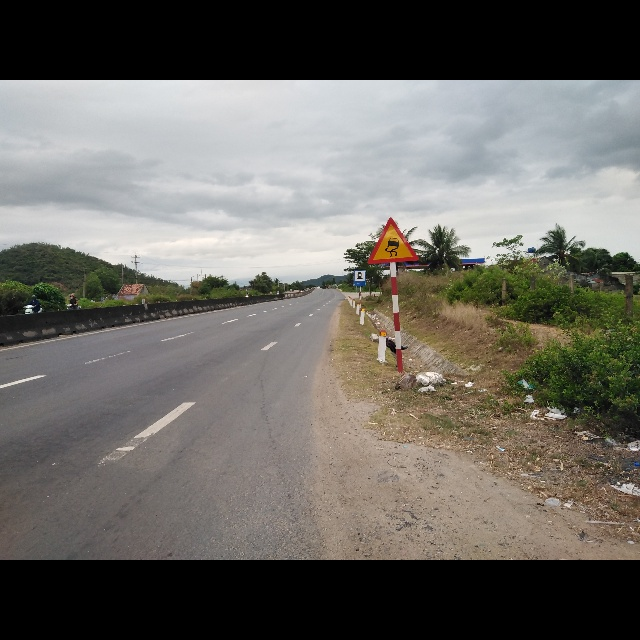Đường trơn trượt: (369, 216, 421, 265)
